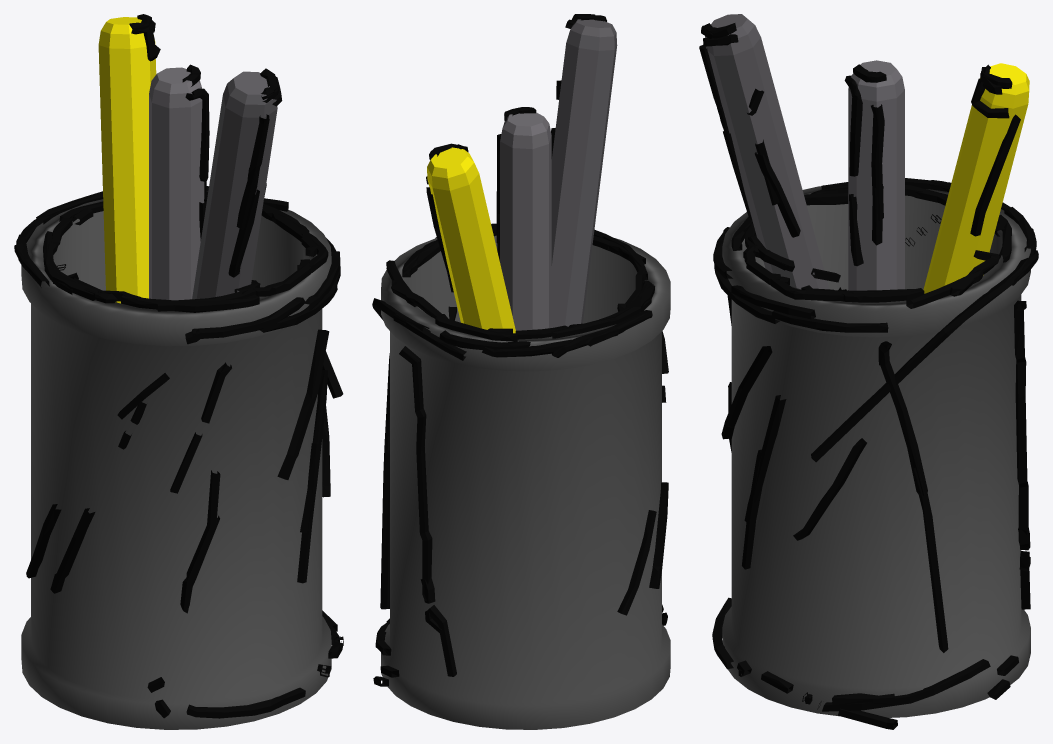
Rendered from pencil.glb.
3 views of the same model, side by side, from view 1: azimuth 30°, elevation 25°; view 2: azimuth 150°, elevation 25°; view 3: azimuth 270°, elevation 25° (orthographic). The views are drawn at different scales.
Parts seen in each view (by area): view 1: lapicera_, lines_lapicera; view 2: lapicera_, lines_lapicera; view 3: lapicera_, lines_lapicera.
Part boxes in pixels (box(x1,y1,x2,y2)): lapicera_: box(21, 17, 331, 729); lines_lapicera: box(14, 14, 343, 718); lapicera_: box(381, 19, 670, 729); lines_lapicera: box(372, 14, 668, 686); lapicera_: box(705, 14, 1030, 717); lines_lapicera: box(699, 23, 1038, 729).
Bounding box in the file's own units: 0.169 × 0.372 × 0.1773.
